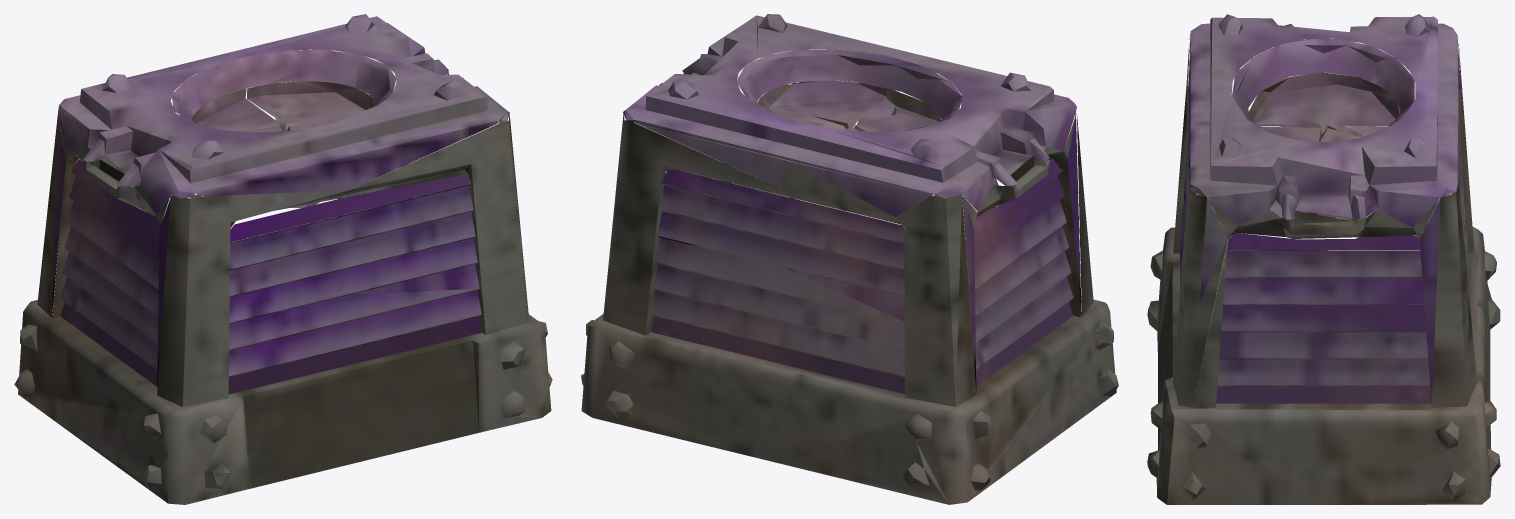
Rendered from active-provider-chest.glb.
3 views of the same model, side by side, from view 1: azimuth 30°, elevation 25°; view 2: azimuth 150°, elevation 25°; view 3: azimuth 270°, elevation 25° (orthographic). The views are drawn at different scales.
Parts seen in each view (by area): view 1: body, anim_hatch_e, anim_hatch_w; view 2: body, anim_hatch_e, anim_hatch_w; view 3: body, anim_hatch_w, anim_hatch_e.
Part boxes in pixels (bbox=[...]): body: bbox=[14, 14, 552, 504]; anim_hatch_e: bbox=[247, 81, 375, 131]; anim_hatch_w: bbox=[191, 88, 282, 132]; body: bbox=[581, 14, 1118, 504]; anim_hatch_e: bbox=[757, 80, 886, 129]; anim_hatch_w: bbox=[844, 88, 941, 132]; body: bbox=[1147, 14, 1500, 504]; anim_hatch_w: bbox=[1249, 72, 1399, 134]; anim_hatch_e: bbox=[1262, 125, 1388, 142].
Size of the model in its own units: 1.01 by 0.7617 by 0.7356.
Materials: 1 (1 with a texture image).
